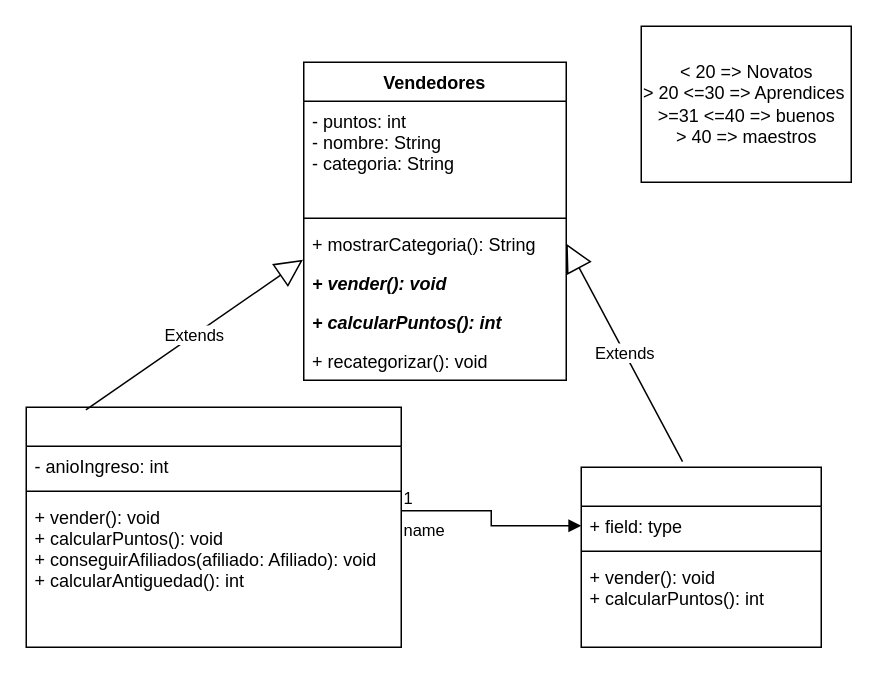
This 878x678 diagram has some shape labels left out. Each missing label, with the box of its shape:
Afiliados: (580, 466, 821, 647)
Empleados: (25, 406, 401, 647)
